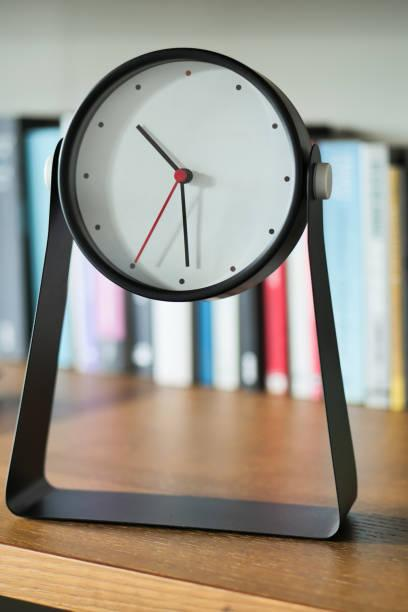clock: (59, 51, 309, 300)
